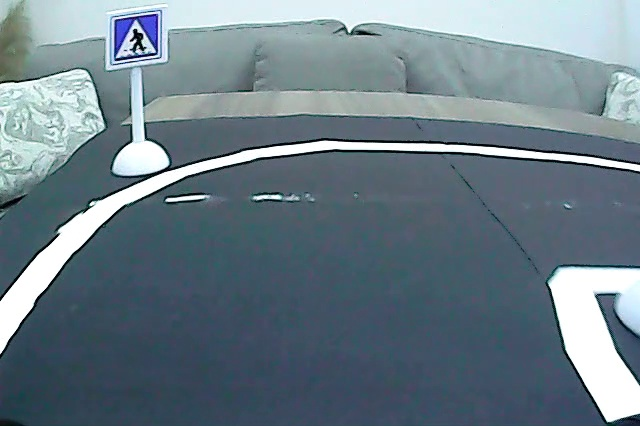pedestrian crossing: (108, 11, 164, 64)
